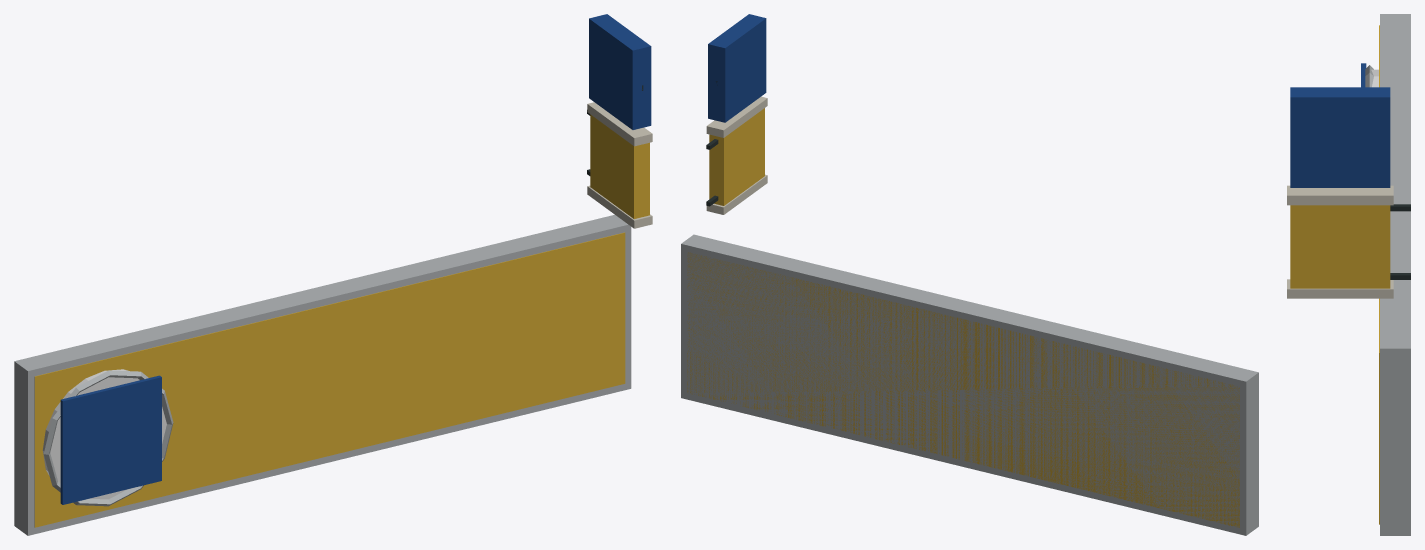
The model's file is bang_gui_xe_48.glb.
3 renders of one model, left to right at view 1: azimuth 30°, elevation 25°; view 2: azimuth 150°, elevation 25°; view 3: azimuth 270°, elevation 25°, orthographic. The views are drawn at different scales.
Parts seen in each view (by area): view 1: bang_gui_xe_48; view 2: bang_gui_xe_48; view 3: bang_gui_xe_48.
Part boxes in pixels (<box>): bang_gui_xe_48: <box>14,14,652,535</box>; bang_gui_xe_48: <box>681,14,1258,535</box>; bang_gui_xe_48: <box>1287,14,1410,535</box>.
Bounding box in the file's own units: 4.6 × 2.74 × 0.72.
